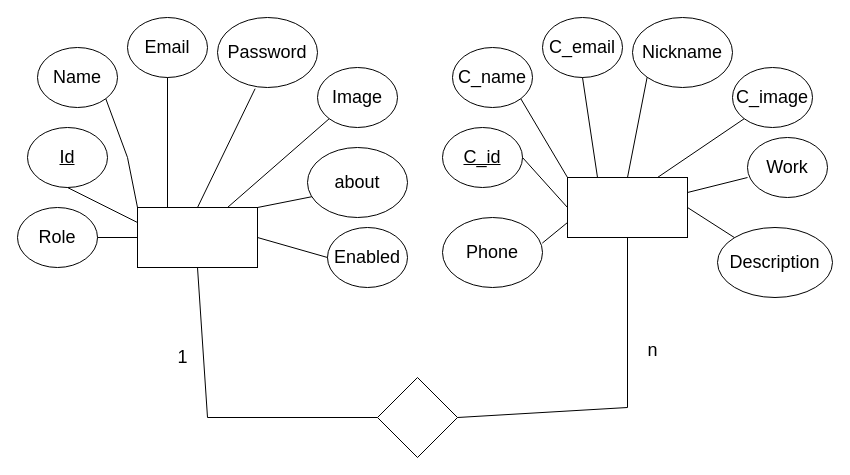
This 850x475 diagram has some shape labels left out. Here are the shapes that lost their labels. From the top down, the centre of each, then its label:
point 627,207: Contact
point 197,237: User
point 417,417: has
